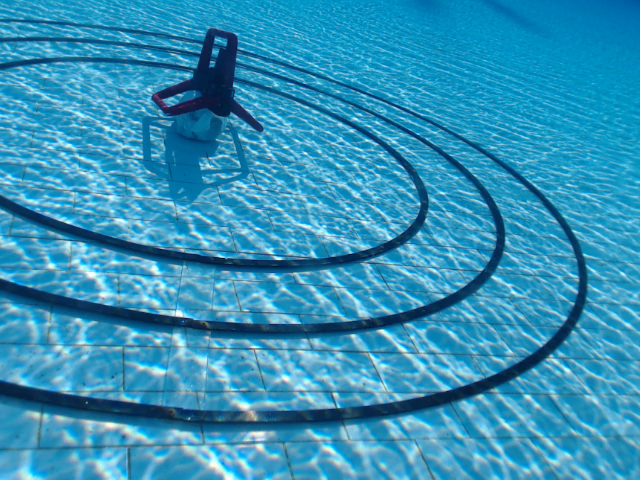submarine: (150, 27, 267, 135)
